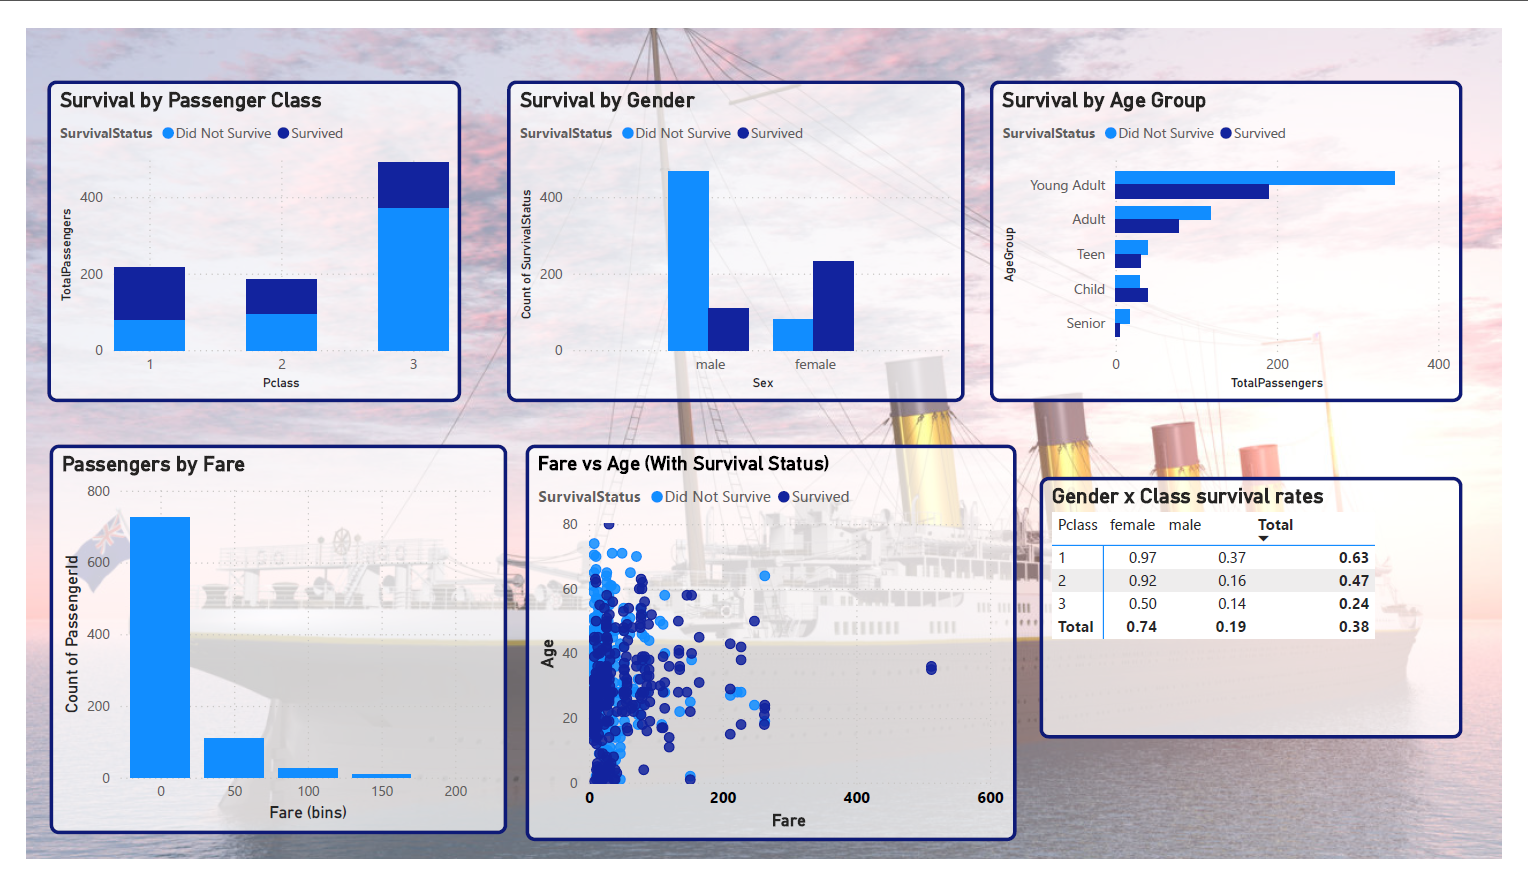

The page's visual inventory and layout, read from the dashboard file:
{"tool":"powerbi","page":{"name":"Survival drivers","canvas":[1280,720],"ordinal":1},"visuals":[{"type":"columnChart","title":"Survival by Passenger Class","fields":{"Category":["Titanic dataset.Pclass"],"Y":["Titanic dataset.TotalPassengers"],"Series":["Titanic dataset.SurvivalStatus"]},"box":[18.2,44.6,358.5,279.5],"z":0},{"type":"clusteredColumnChart","title":"Survival by Gender","fields":{"Category":["Titanic dataset.Sex"],"Y":["CountNonNull(Titanic dataset.SurvivalStatus)"],"Series":["Titanic dataset.SurvivalStatus"]},"box":[417.2,44.6,397,279.5],"z":1000},{"type":"clusteredBarChart","title":"Survival by Age Group","fields":{"Series":["Titanic dataset.SurvivalStatus"],"Category":["Titanic dataset.AgeGroup"],"Y":["Titanic dataset.TotalPassengers"]},"box":[836.5,44.6,409.1,279.5],"z":2000},{"type":"clusteredColumnChart","title":"Passengers by Fare","fields":{"Y":["CountNonNull(Titanic dataset.PassengerId)"],"Category":["Titanic dataset.Fare (bins)"]},"box":[20.3,360.5,397,338.2],"z":3000},{"type":"pivotTable","title":"Gender x Class survival rates","fields":{"Rows":["Titanic dataset.Pclass"],"Columns":["Titanic dataset.Sex"],"Values":["Titanic dataset.SurvivalRateByGroup"]},"box":[879,388.9,366.6,226.8],"z":4000},{"type":"scatterChart","title":"Fare vs Age (With Survival Status)","fields":{"Y":["Titanic dataset.Age"],"X":["Titanic dataset.Fare"],"Series":["Titanic dataset.SurvivalStatus"]},"box":[432.6,361.1,426.3,343.6],"z":5000}]}

Visuals, with their boxes in screenshot pixels (x1, y1, x2, y2), scaled from the page's 1280x720 canvas onto the 1528x882 screenshot:
"Survival by Passenger Class" columnChart: pyautogui.locateOnScreen(22, 55, 450, 397)
"Survival by Gender" clusteredColumnChart: pyautogui.locateOnScreen(498, 55, 972, 397)
"Survival by Age Group" clusteredBarChart: pyautogui.locateOnScreen(999, 55, 1487, 397)
"Passengers by Fare" clusteredColumnChart: pyautogui.locateOnScreen(24, 442, 498, 856)
"Gender x Class survival rates" pivotTable: pyautogui.locateOnScreen(1049, 476, 1487, 754)
"Fare vs Age (With Survival Status)" scatterChart: pyautogui.locateOnScreen(516, 442, 1025, 863)
